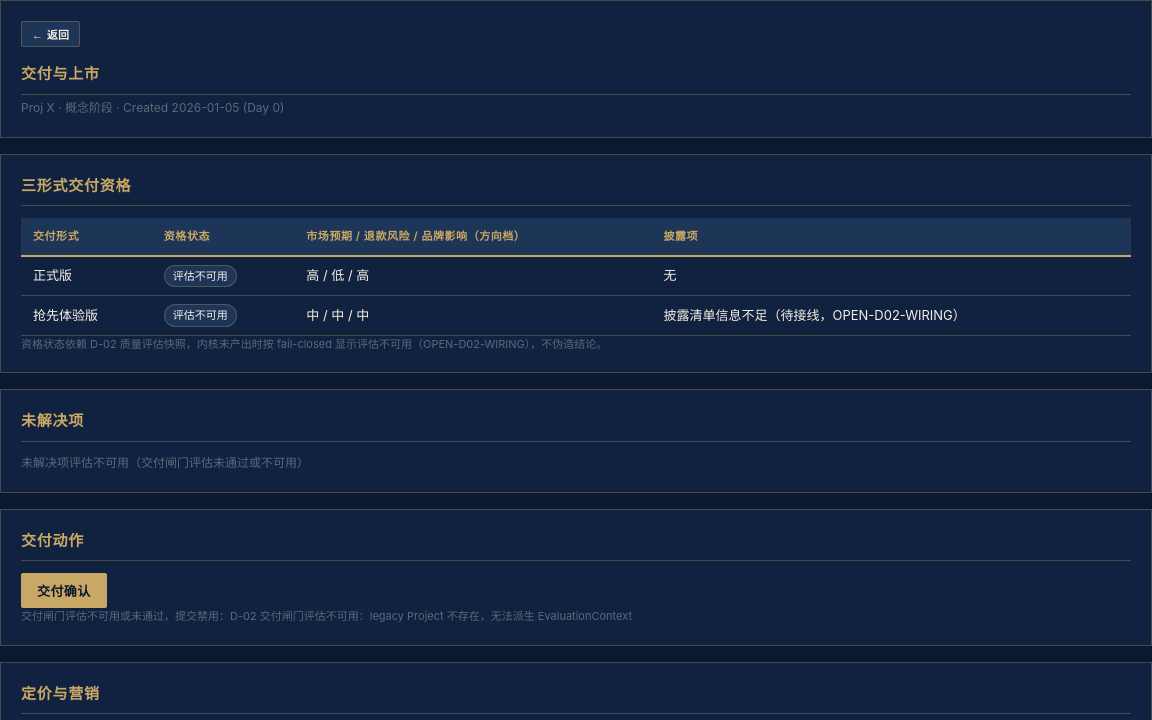
Test: P-09 交付与上市页（批次 07B） › 07B-REV2/SUP-01 fail-closed：上下文无法派生 → 提交禁用带原因，不伪造 pass
This screenshot has width=1152, height=720.
Click the button with test id "deliver-submit-open": {"x": 64, "y": 590} [21, 573, 107, 608]
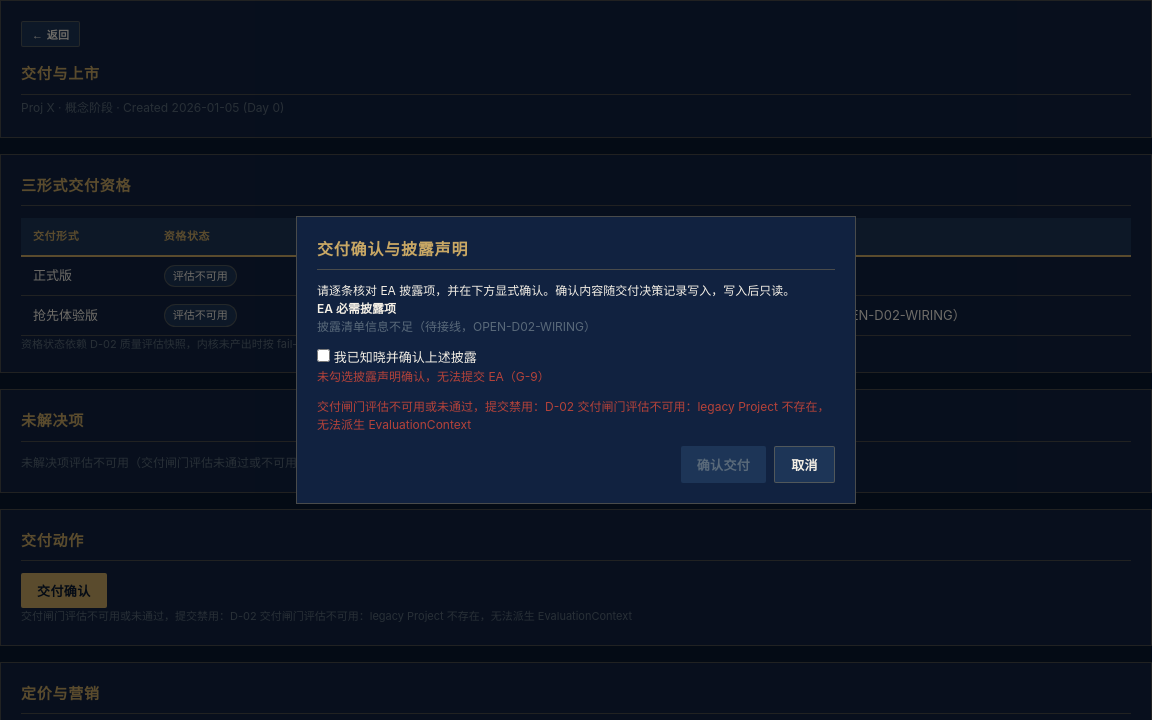
Check: the button with test id "deliver-submit-confirm" is disabled, box [681, 446, 766, 483]
Check: the text with test id "deliver-submit-blocked" shows "评估不可用", box [317, 399, 829, 432]
